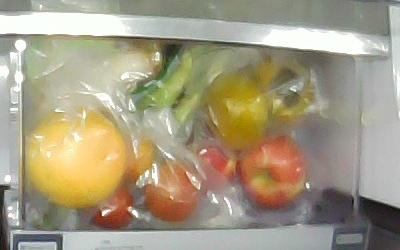apple_vinyl: (237, 134, 308, 207), (197, 145, 237, 190)
grapefruit_vinyl: (25, 113, 127, 205)
persimmon_vinyl: (204, 74, 269, 145), (254, 61, 319, 124)
prune_vinyl: (146, 159, 200, 223), (82, 187, 135, 229), (123, 138, 155, 183)
